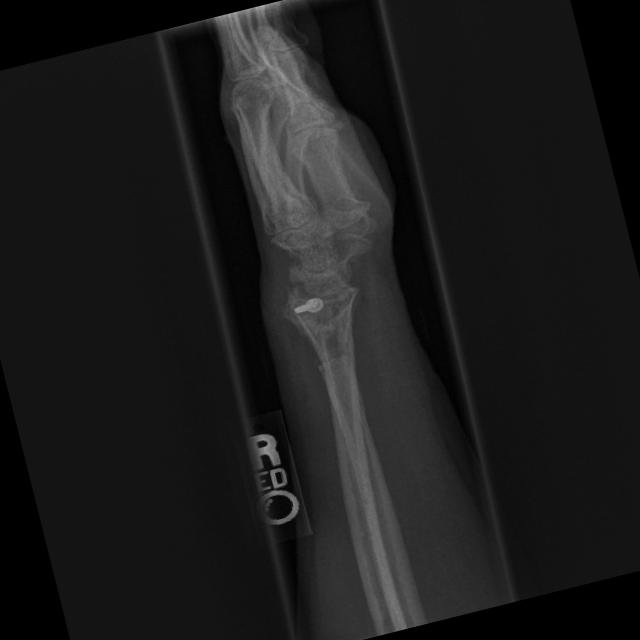wrist positive: (279, 265, 380, 346), (292, 329, 378, 395)
